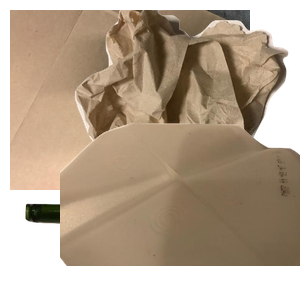cardboard: (10, 10, 250, 190)
glass: (23, 186, 249, 300)
plastic: (60, 120, 300, 300)
trash: (70, 10, 300, 190)
